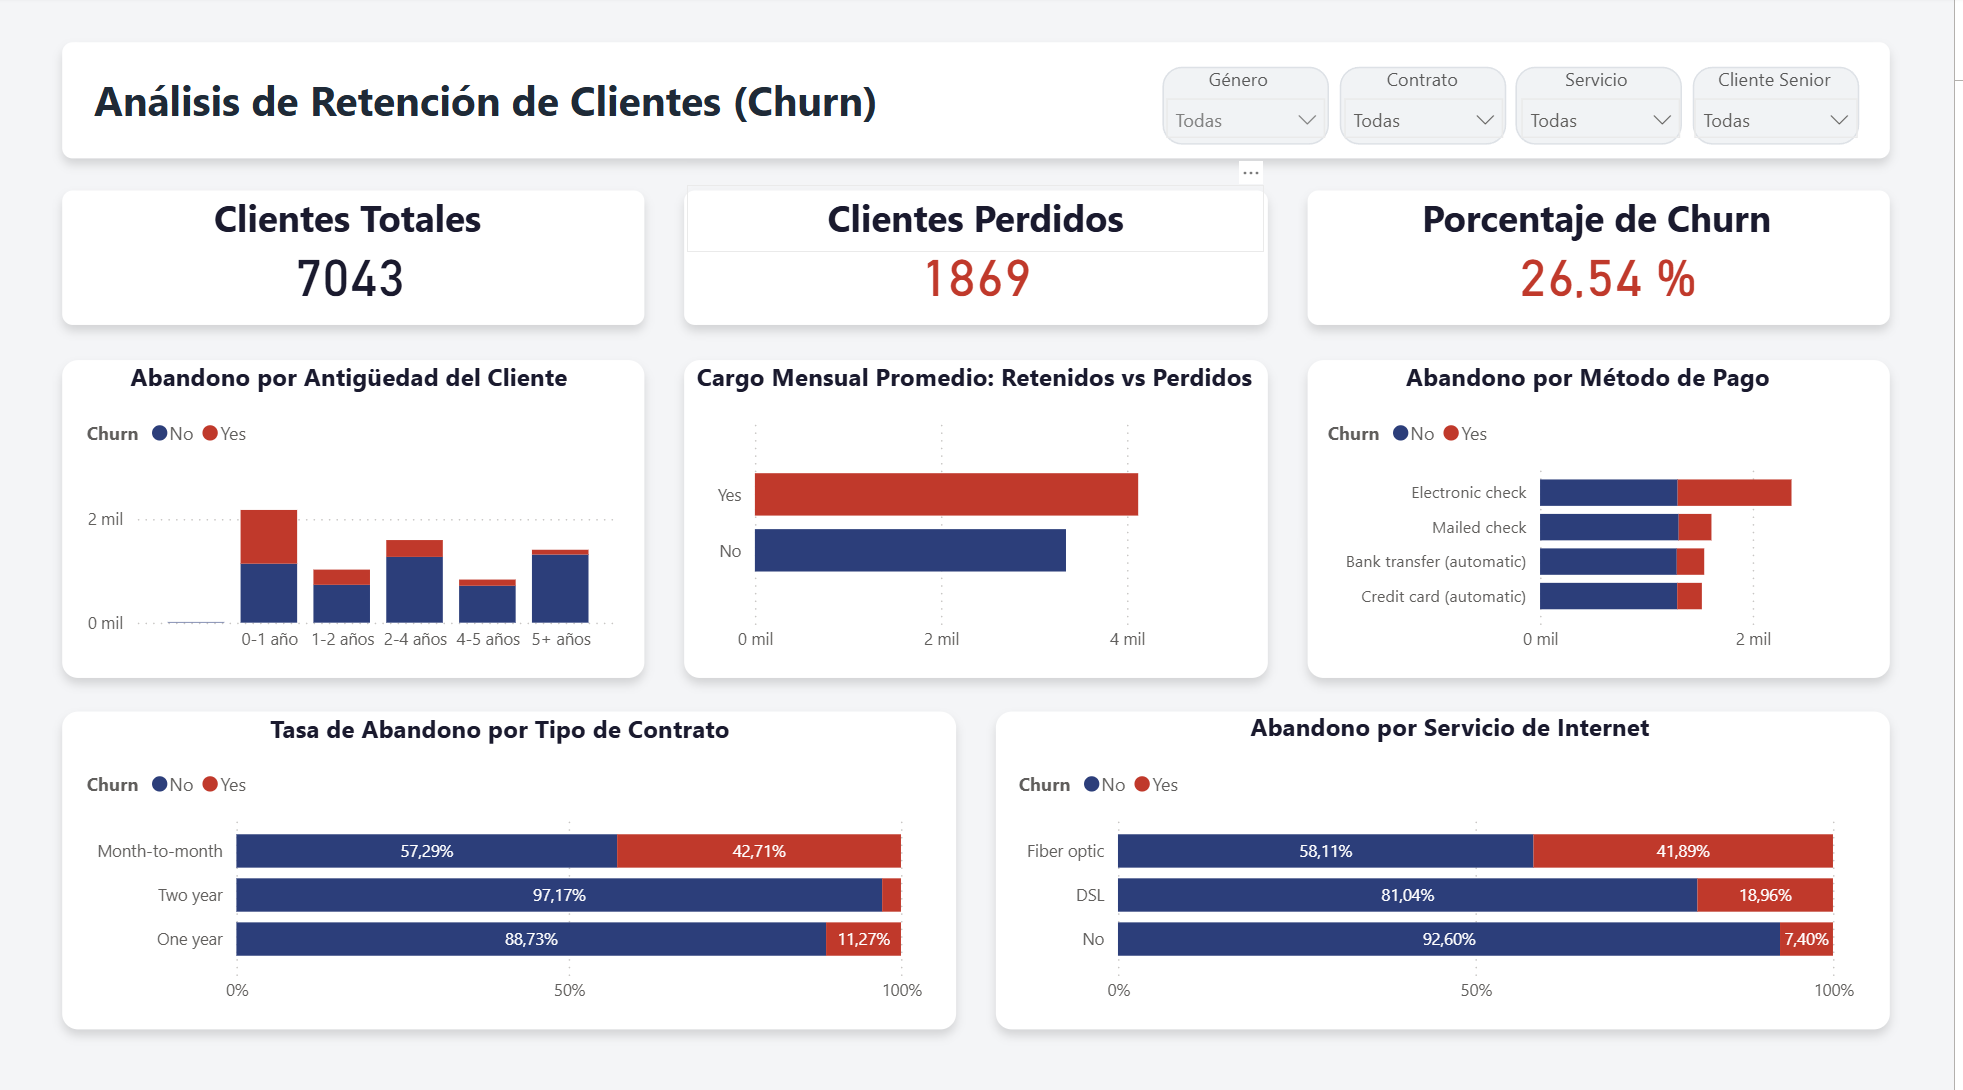

This screenshot's page, from the dashboard's own definition file:
{"tool":"powerbi","page":{"name":"Retención de Clientes","canvas":[1280,720],"ordinal":0},"visuals":[{"type":"cardVisual","fields":{"Data":["CountNonNull(telco_clean.customerID)"]},"box":[90.3,151.8,280.1,62.8],"z":0},{"type":"cardVisual","fields":{"Data":["telco_clean.Clientes Perdidos"]},"box":[500,151.8,280.1,62.8],"z":1000},{"type":"cardVisual","fields":{"Data":["telco_clean.Churn Rate %"]},"box":[913.5,151.8,280.1,62.8],"z":2000},{"type":"columnChart","fields":{"Category":["telco_clean (2).Tenure_Group"],"Y":["CountNonNull(telco_clean (2).customerID)"],"Series":["telco_clean (2).Churn"]},"box":[53,265.7,358.6,172.8],"z":6000},{"type":"slicer","fields":{"Values":["telco_clean.gender"]},"box":[754.5,56.3,124.3,43.8],"z":7000},{"type":"slicer","fields":{"Values":["telco_clean.Contract"]},"box":[871,56.3,124.3,43.8],"z":8000},{"type":"slicer","fields":{"Values":["telco_clean.InternetService"]},"box":[986.8,56.3,124.3,43.8],"z":9000},{"type":"slicer","fields":{"Values":["telco_clean.SeniorCitizen"]},"box":[1100,56.3,127,43.8],"z":10000},{"type":"textbox","box":[787.2,39.9,58.9,32.1],"z":12000},{"type":"textbox","box":[903.7,39.9,58.9,32.1],"z":13000},{"type":"textbox","box":[986.8,39.9,118.4,32.1],"z":14000},{"type":"textbox","box":[1105.3,39.9,114.5,32.1],"z":15000},{"type":"textbox","box":[157.1,462.7,342.9,31.4],"z":16000},{"type":"textbox","box":[795.1,461.3,310.2,34],"z":17000},{"type":"textbox","box":[885.4,232.3,310.2,43.8],"z":18000},{"type":"textbox","box":[74.6,232.3,310.2,43.8],"z":19000},{"type":"textbox","box":[437.8,232.3,402.5,43.8],"z":20000},{"type":"textbox","box":[39.9,123,377.6,43.8],"z":21000},{"type":"textbox","box":[450.9,123,377.6,43.8],"z":22000},{"type":"textbox","box":[857.3,123,377.6,43.8],"z":23000},{"type":"clusteredBarChart","fields":{"Category":["telco_clean (2).Churn"],"Y":["Avg(telco_clean.MonthlyCharges)"]},"box":[463.3,265.7,353.4,172.8],"z":23001},{"type":"barChart","fields":{"Category":["telco_clean.PaymentMethod"],"Y":["CountNonNull(telco_clean.customerID)"],"Series":["telco_clean.Churn"]},"box":[865.1,265.7,369.7,172.8],"z":23002},{"type":"hundredPercentStackedBarChart","fields":{"Series":["telco_clean.Churn"],"Category":["telco_clean.Contract"],"Y":["CountNonNull(telco_clean.customerID)"]},"box":[53,495.4,556.9,172.8],"z":23003},{"type":"hundredPercentStackedBarChart","fields":{"Series":["telco_clean.Churn"],"Y":["CountNonNull(telco_clean.customerID)"],"Category":["telco_clean.InternetService"]},"box":[662.9,495.4,556.9,172.8],"z":23004}]}

Visuals, with their boxes in screenshot pixels (x1, y1, x2, y2), scaled from the page's 1280x720 canvas onto the 1963x1090 screenshot:
cardVisual - CountNonNull(telco_clean.customerID): 138, 230, 568, 325
cardVisual - telco_clean.Clientes Perdidos: 767, 230, 1196, 325
cardVisual - telco_clean.Churn Rate %: 1401, 230, 1830, 325
columnChart - telco_clean (2).Tenure_Group x CountNonNull(telco_clean (2).customerID): 81, 402, 631, 664
slicer - telco_clean.gender: 1157, 85, 1348, 152
slicer - telco_clean.Contract: 1336, 85, 1526, 152
slicer - telco_clean.InternetService: 1513, 85, 1704, 152
slicer - telco_clean.SeniorCitizen: 1687, 85, 1882, 152
textbox: 1207, 60, 1298, 109
textbox: 1386, 60, 1476, 109
textbox: 1513, 60, 1695, 109
textbox: 1695, 60, 1871, 109
textbox: 241, 700, 767, 748
textbox: 1219, 698, 1695, 750
textbox: 1358, 352, 1834, 418
textbox: 114, 352, 590, 418
textbox: 671, 352, 1289, 418
textbox: 61, 186, 640, 253
textbox: 691, 186, 1271, 253
textbox: 1315, 186, 1894, 253
clusteredBarChart - telco_clean (2).Churn x Avg(telco_clean.MonthlyCharges): 711, 402, 1252, 664
barChart - telco_clean.PaymentMethod x CountNonNull(telco_clean.customerID): 1327, 402, 1894, 664
hundredPercentStackedBarChart - telco_clean.Churn x telco_clean.Contract: 81, 750, 935, 1012
hundredPercentStackedBarChart - telco_clean.Churn x CountNonNull(telco_clean.customerID): 1017, 750, 1871, 1012
